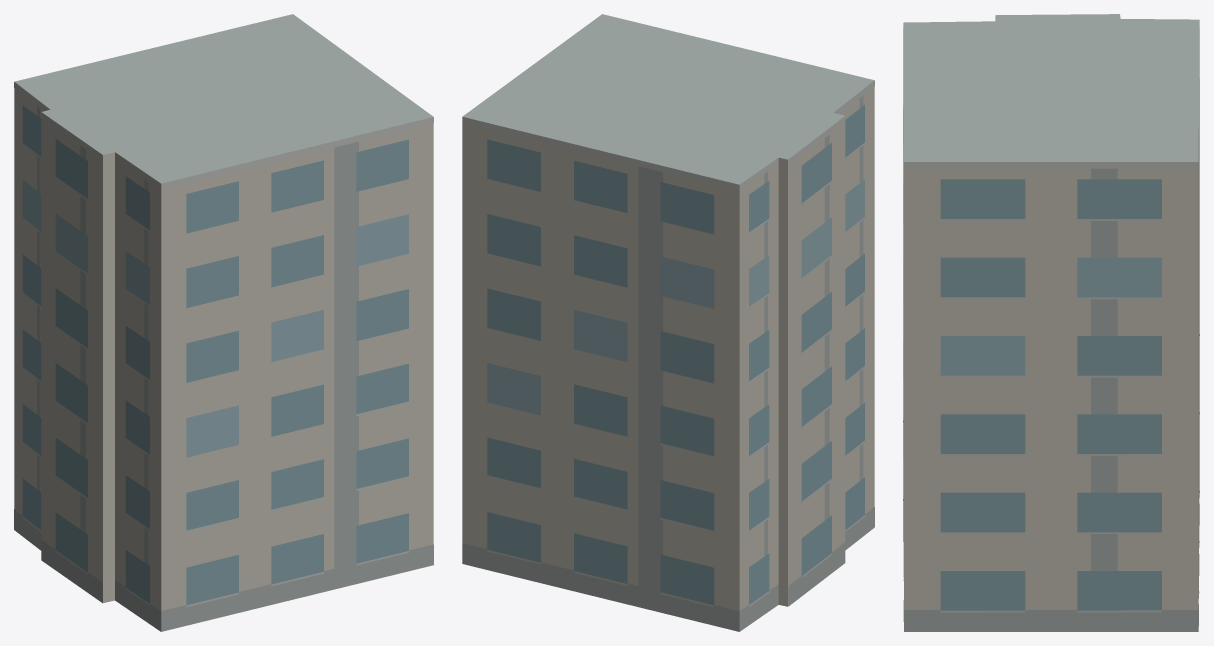
File: survey-upis-32822873.glb
3 views of the same model, side by side, from view 1: azimuth 30°, elevation 25°; view 2: azimuth 150°, elevation 25°; view 3: azimuth 270°, elevation 25° (orthographic). The views are drawn at different scales.
Parts seen in each view (by area): view 1: survey-upis-32822873.tmp; view 2: survey-upis-32822873.tmp; view 3: survey-upis-32822873.tmp.
Part boxes in pixels (box(x1,y1,x2,y2)): survey-upis-32822873.tmp: box(14, 14, 433, 631); survey-upis-32822873.tmp: box(462, 14, 874, 631); survey-upis-32822873.tmp: box(903, 14, 1199, 631).
Size of the model in its own units: 11.5 by 17 by 9.73.
